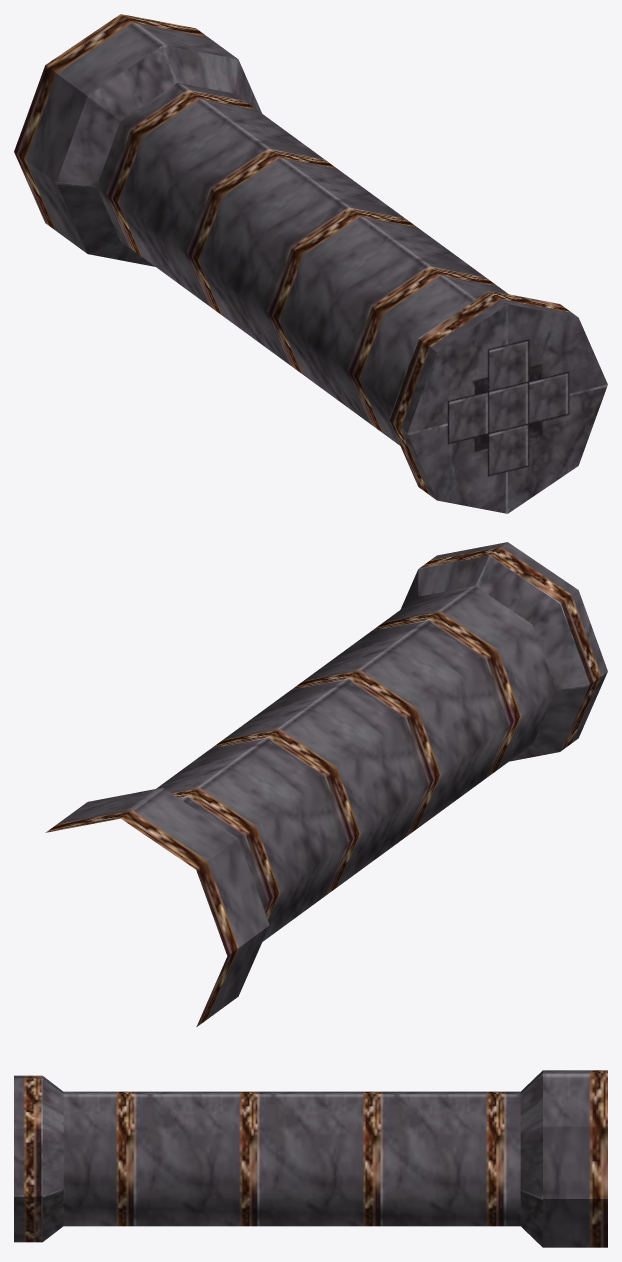
3 renders of one model, top to bottom at view 1: azimuth 30°, elevation 25°; view 2: azimuth 150°, elevation 25°; view 3: azimuth 270°, elevation 25°, orthographic. The views are drawn at different scales.
Parts seen in each view (by area): view 1: model_Object91; view 2: model_Object91; view 3: model_Object91.
Part boxes in pixels (x1=…): model_Object91: x1=14, y1=14, x2=607, y2=513; model_Object91: x1=45, y1=542, x2=607, y2=1026; model_Object91: x1=14, y1=1070, x2=607, y2=1247.
Bounding box in the file's own units: 1 × 1 × 3.14.
Materials: 2 (2 with a texture image).
